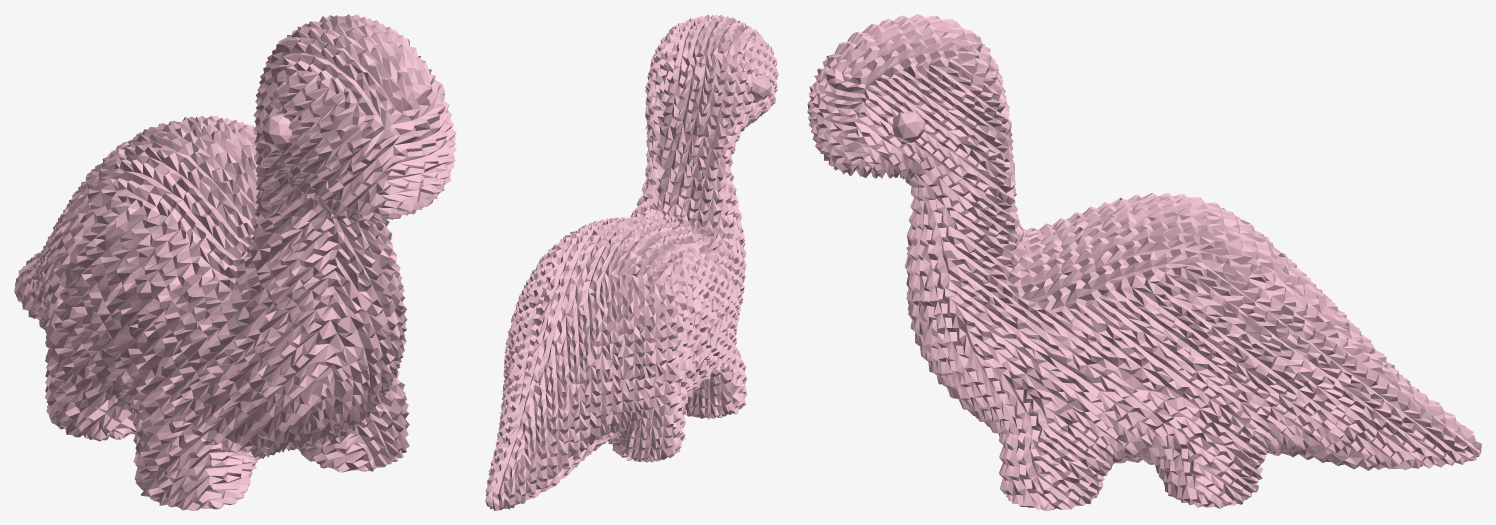
The model's file is dinosaurio-tejido.glb.
3 renders of one model, left to right at view 1: azimuth 30°, elevation 25°; view 2: azimuth 150°, elevation 25°; view 3: azimuth 270°, elevation 25°, orthographic. The views are drawn at different scales.
Visible parts, largest first — view 1: pieza; view 2: pieza; view 3: pieza.
Part boxes in pixels (bbox=[...]): pieza: bbox=[14, 14, 456, 510]; pieza: bbox=[485, 14, 778, 510]; pieza: bbox=[807, 14, 1481, 510].
Bounding box in the file's own units: 0.039 × 0.0723 × 0.1015.
